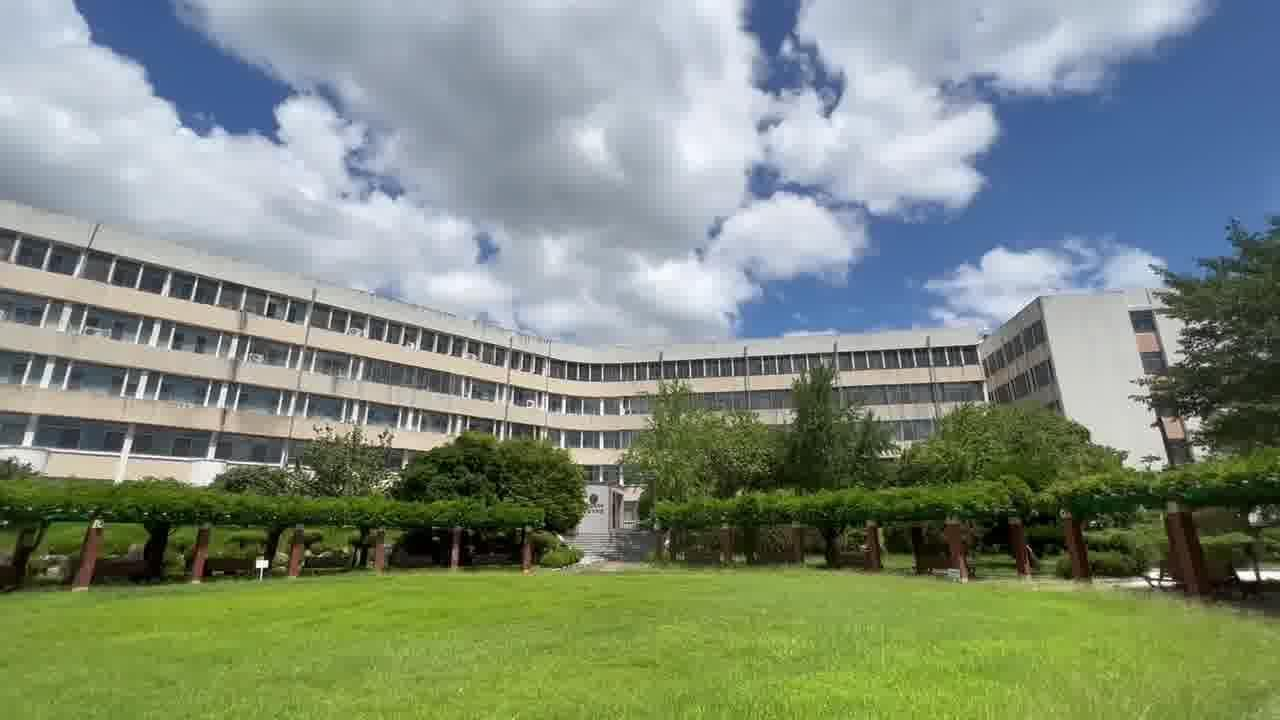building: (0, 247, 617, 439)
